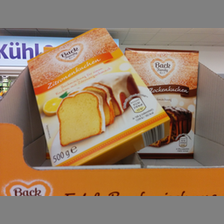cake: (27, 28, 169, 173)
